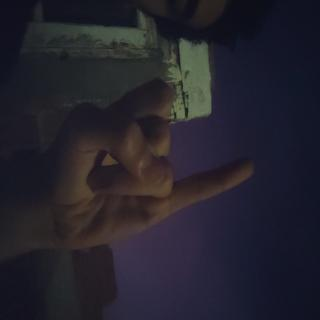MEEM: (54, 81, 191, 320)
